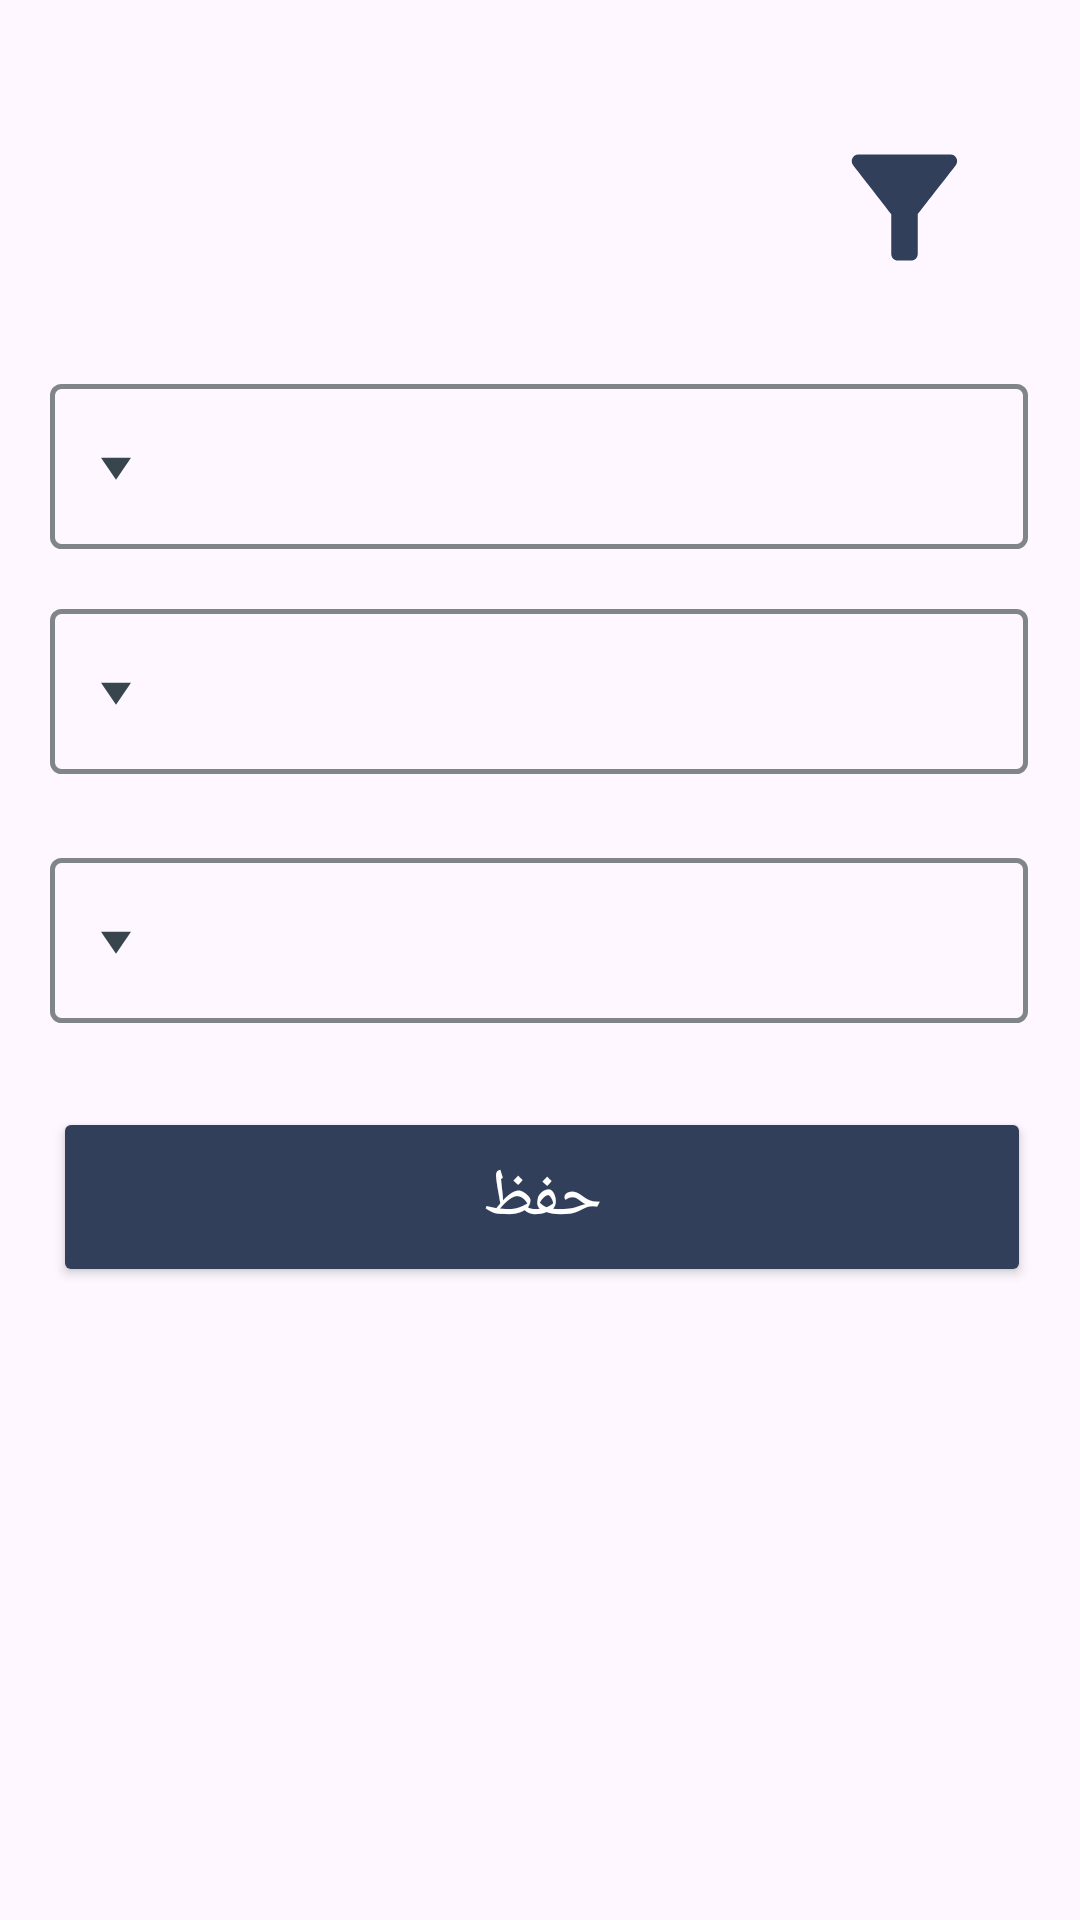

Icons on this 1080x1920 Android screen, each with the point to tap as [x,y]:
filter: [904,207]
